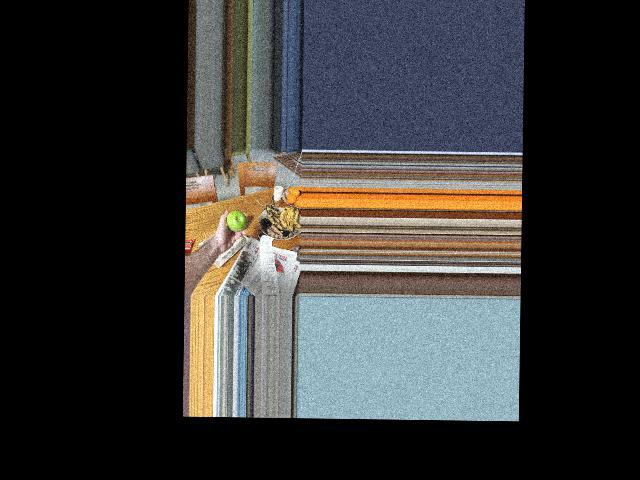apple: (228, 208, 247, 237)
